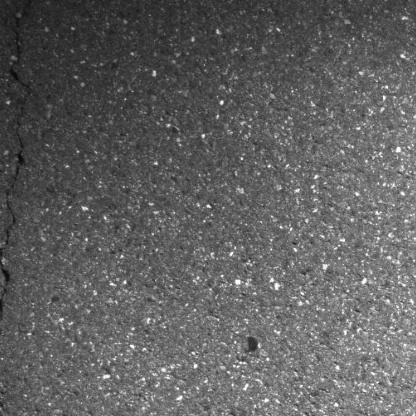Cracks: (0, 0, 38, 416)
